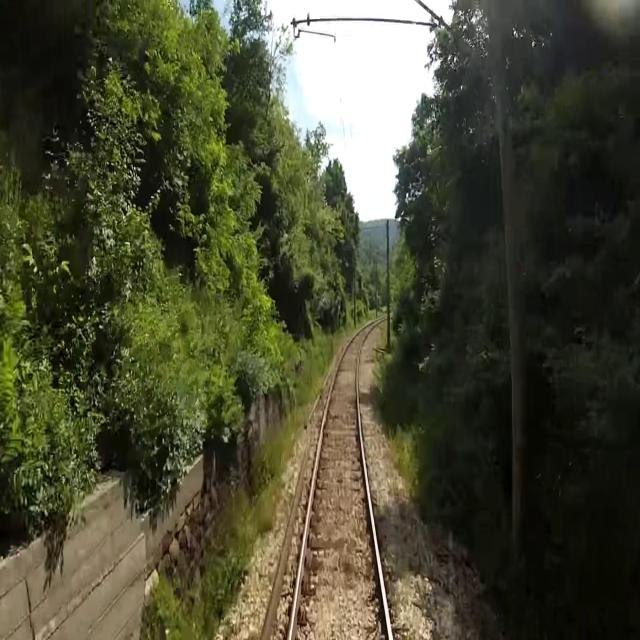rail-track: (291, 326, 388, 639)
